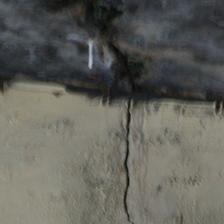Crack: (50, 91, 211, 140), (0, 13, 78, 100)
